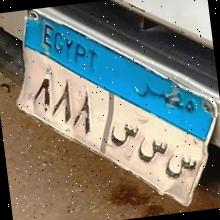8: (70, 88, 96, 136), (24, 70, 52, 112), (49, 76, 73, 124)
seen: (160, 151, 198, 184), (135, 133, 169, 169), (108, 116, 140, 148)
